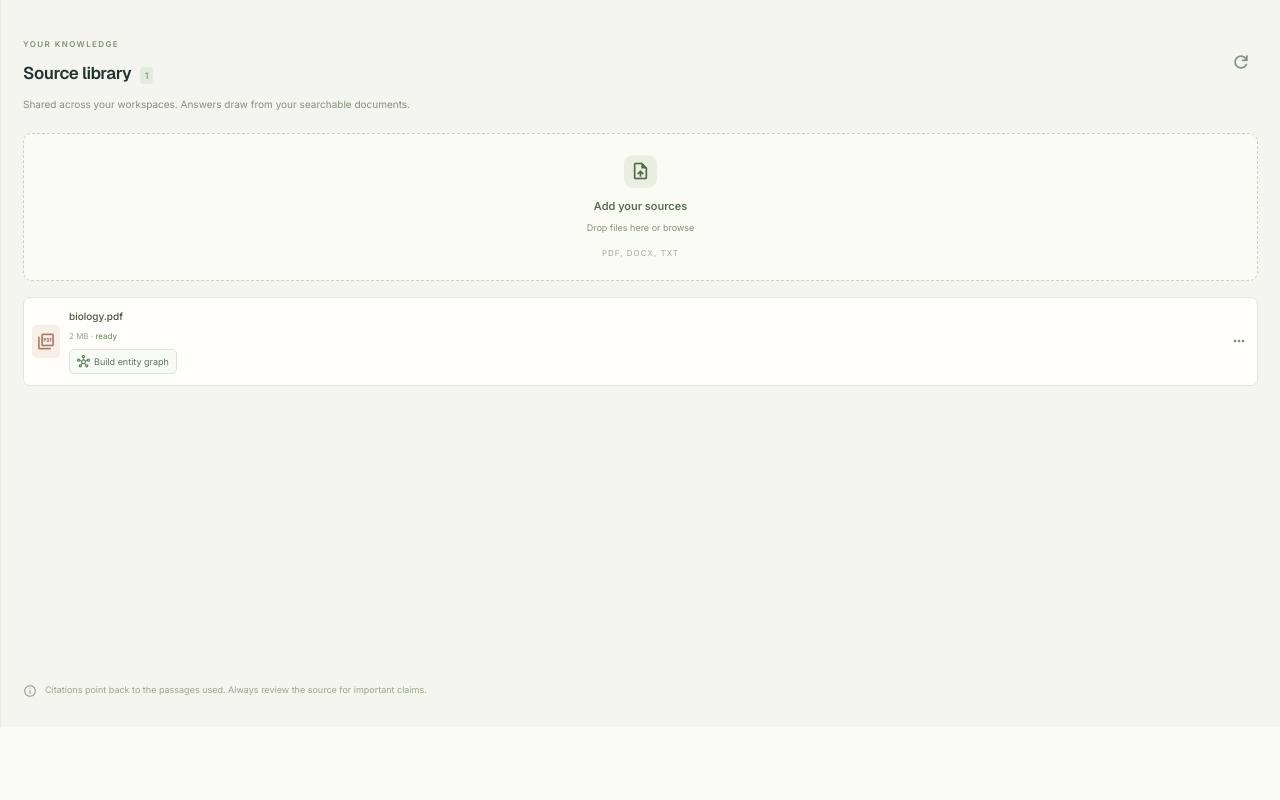
Test: SourceLibrary knowledge graph action › renders the API-reported partial status and relation count
Click the button "Build entity graph" at (123, 361), box [69,348,177,374]
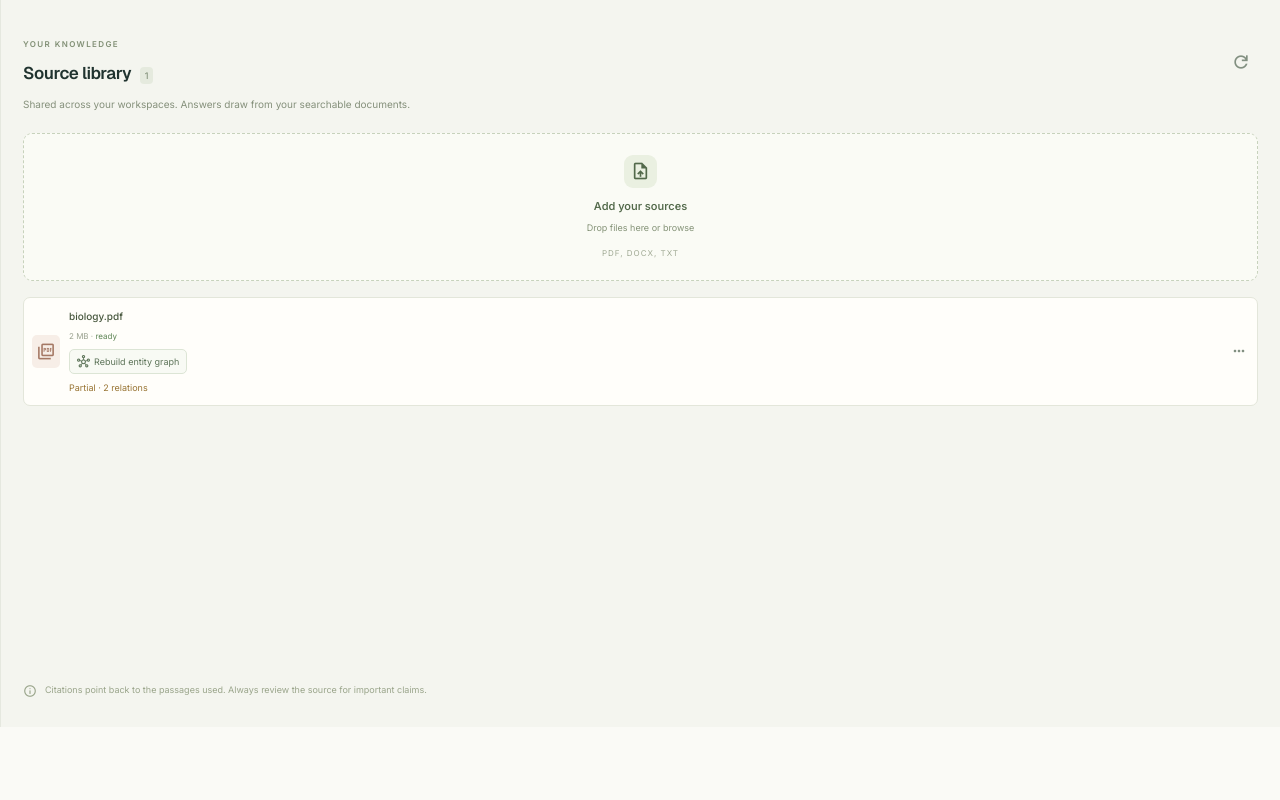
Now the message reads "Partial · 2 relations", box [69,382,148,393]
